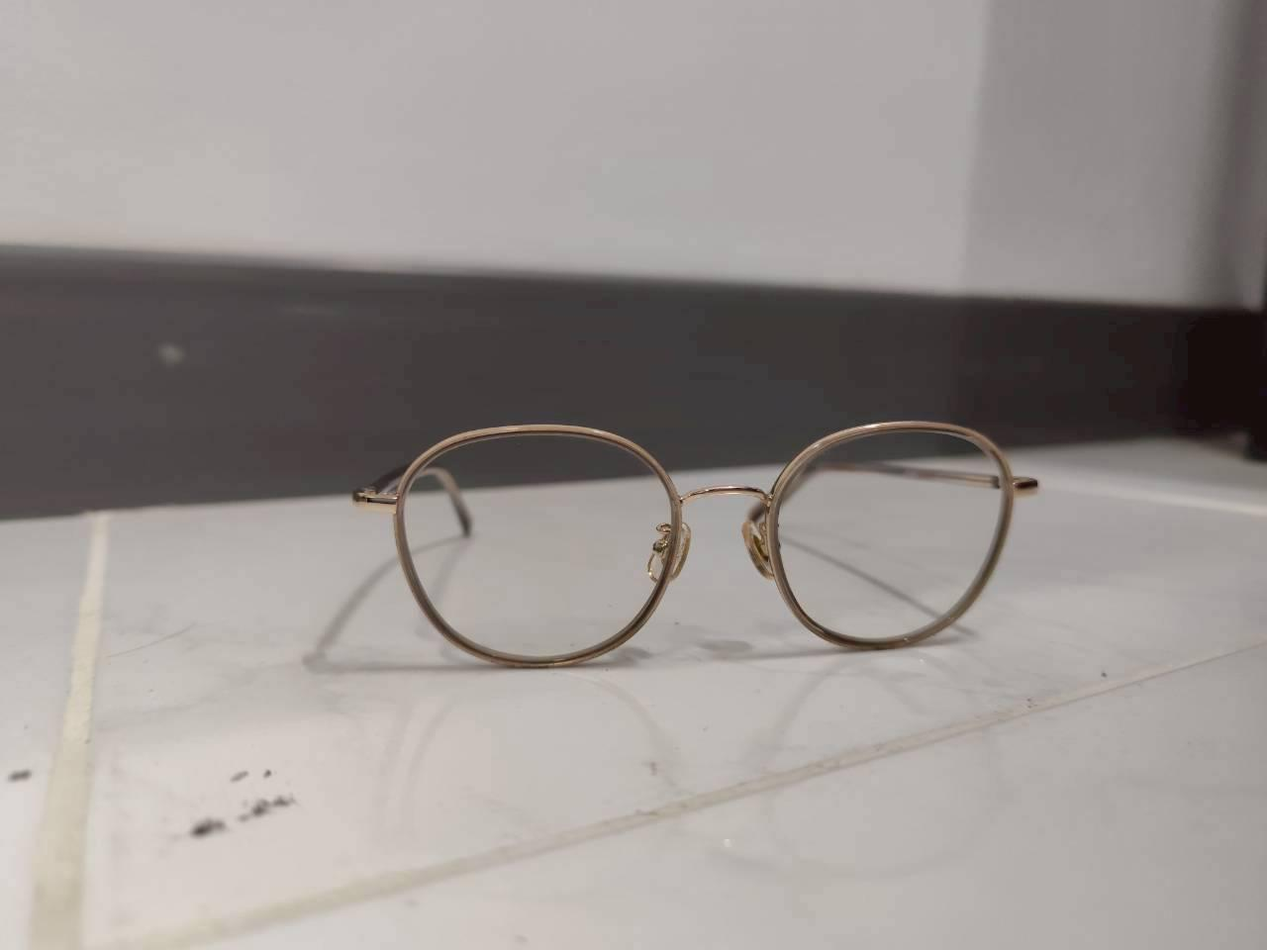glasses: (345, 411, 1047, 674)
